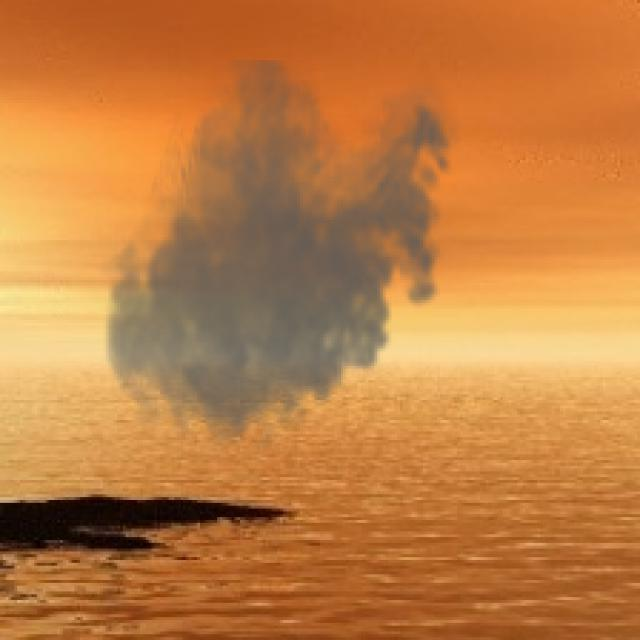smoke: (97, 60, 463, 463)
